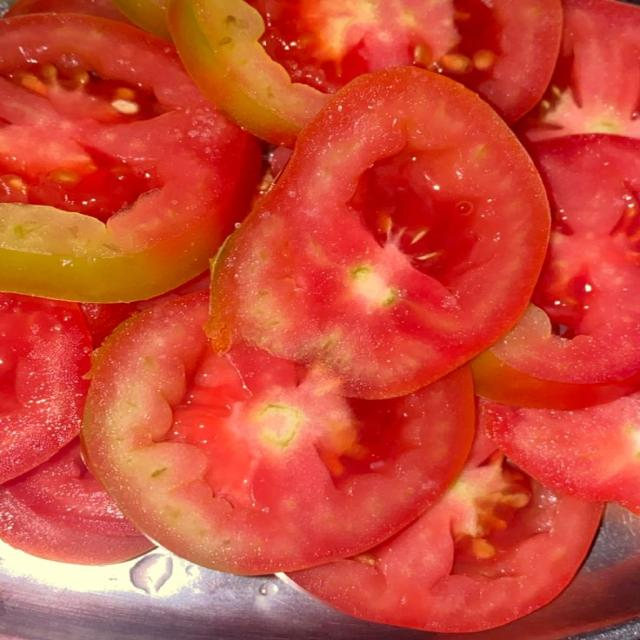sliced_tomato: (207, 67, 549, 397), (83, 293, 474, 574), (0, 14, 259, 302), (170, 0, 561, 145), (289, 451, 601, 632), (492, 135, 639, 384), (0, 440, 153, 564), (480, 393, 639, 512), (0, 293, 91, 482), (519, 0, 639, 140), (0, 439, 140, 536), (0, 487, 153, 565), (470, 350, 639, 409), (80, 271, 210, 347), (4, 0, 128, 22), (113, 0, 171, 41)
